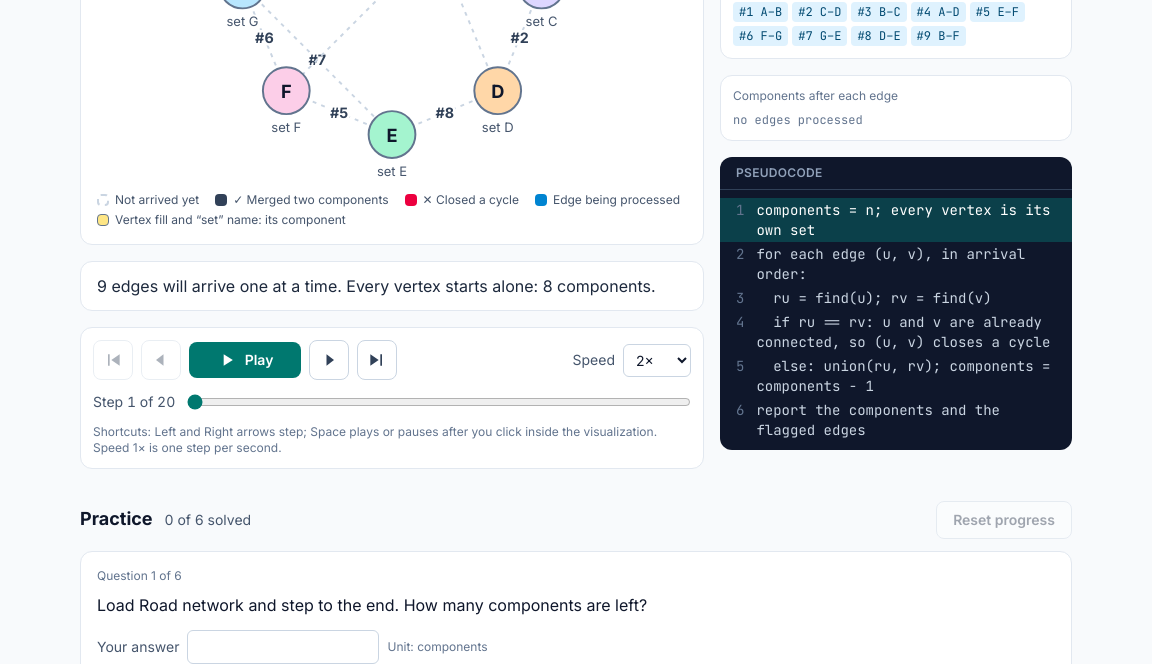
Test: union-find practice lesson › runs the road network to two components and three cycle edges
(page scrolled)
Click the button named "Last step" at {"x": 377, "y": 360}, box [357,340,397,380]
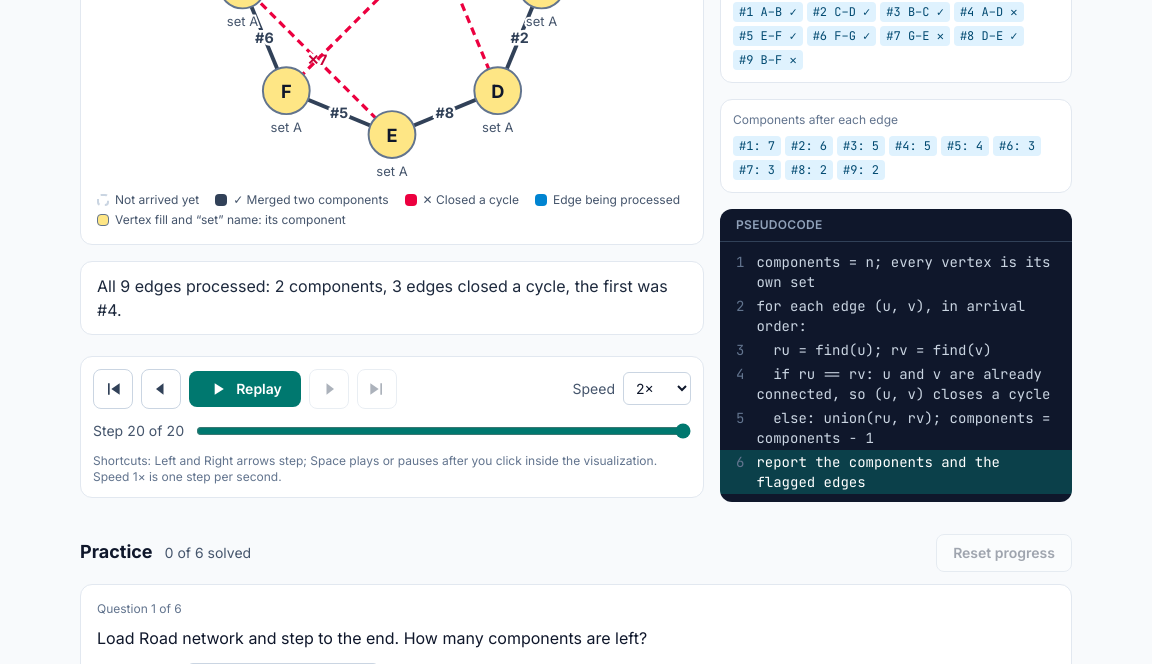
Result: the text "All 9 edges processed: 2 components, 3 edges closed a cycle, the first was #4." is shown at [80,261,704,335]
